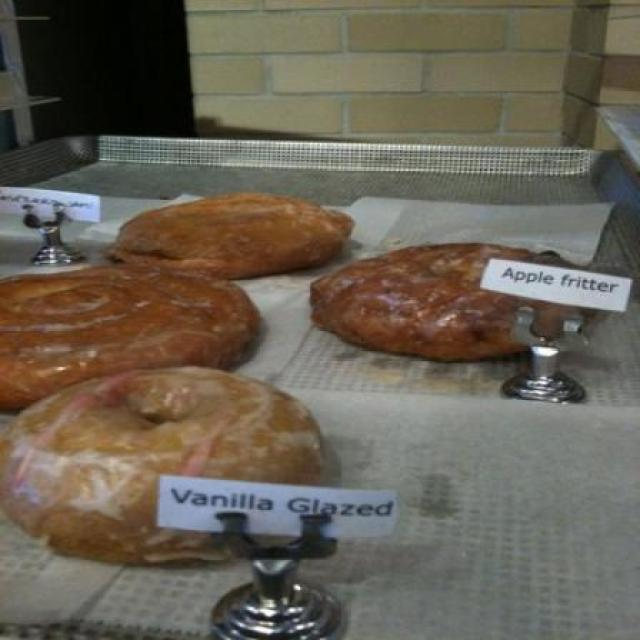Donut: (5, 193, 621, 582)
